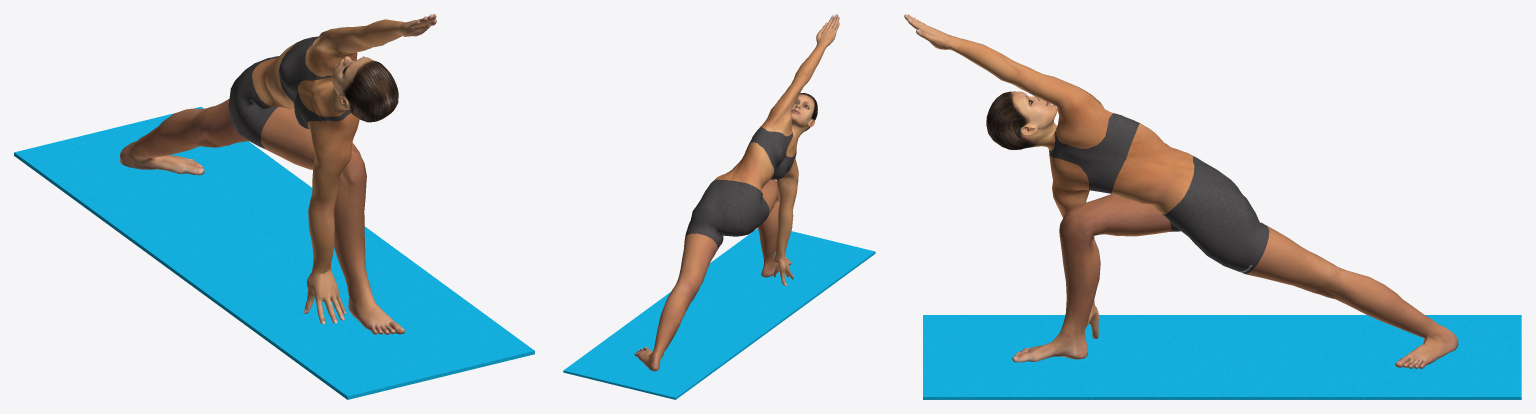
The model's file is parsvakonasana.glb.
3 views of the same model, side by side, from view 1: azimuth 30°, elevation 25°; view 2: azimuth 150°, elevation 25°; view 3: azimuth 270°, elevation 25° (orthographic). The views are drawn at different scales.
Visible parts, largest first — view 1: Mat-one-piece_jpg-material, Lily_Texture01_06_2016_jpg-material; view 2: Mat-one-piece_jpg-material, Lily_Texture01_06_2016_jpg-material; view 3: Mat-one-piece_jpg-material, Lily_Texture01_06_2016_jpg-material.
Boxes of the visible parts, x1,y1,x2,y2 form: Mat-one-piece_jpg-material: [14, 106, 534, 399]; Lily_Texture01_06_2016_jpg-material: [120, 14, 436, 334]; Mat-one-piece_jpg-material: [563, 228, 875, 399]; Lily_Texture01_06_2016_jpg-material: [634, 14, 839, 371]; Mat-one-piece_jpg-material: [923, 315, 1521, 399]; Lily_Texture01_06_2016_jpg-material: [904, 14, 1458, 368].
Bounding box in the file's own units: 2 × 3.82 × 6.36.
3 materials, 2 textured.
